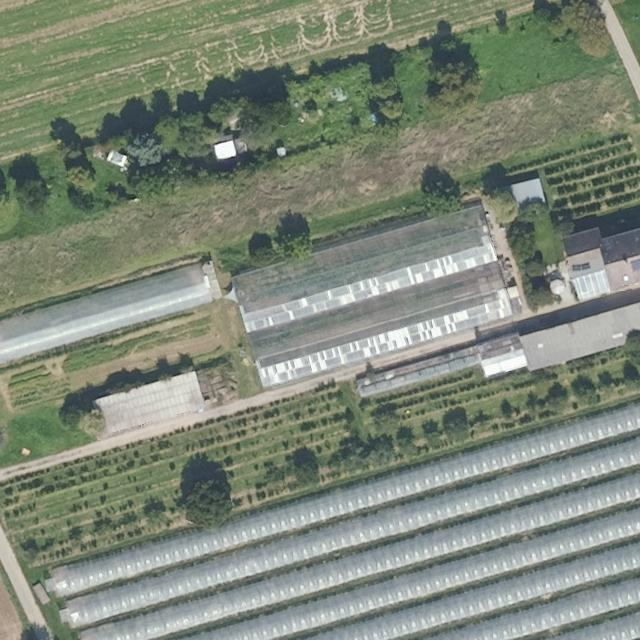PV: (630, 259, 639, 272)
